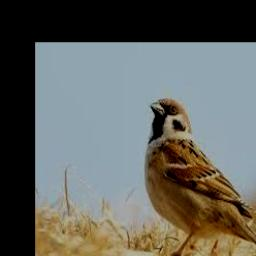Sparrow: (146, 99, 256, 256)
